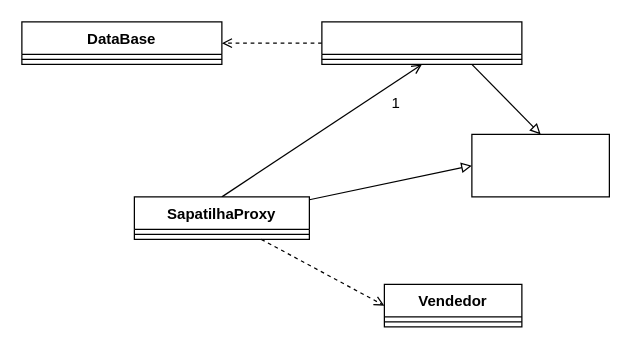
This 631x349 diagram has some shape labels left out. The shapes that lost their labels are listed below. From the top down, each one's box as (x1, y1, x2, y2) in pixels, then its label:
(321, 21, 522, 64): Sapatilha
(471, 133, 609, 197): «interface» ISapatilha
